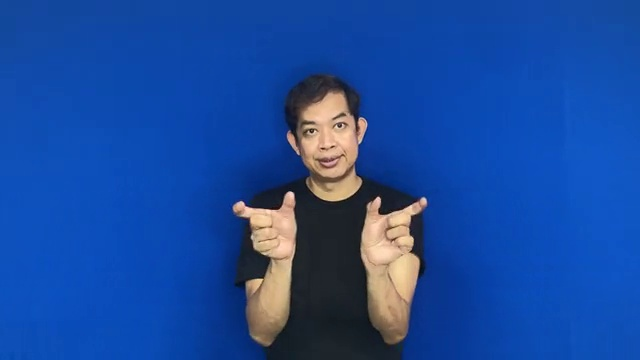crab: (227, 188, 434, 275)
